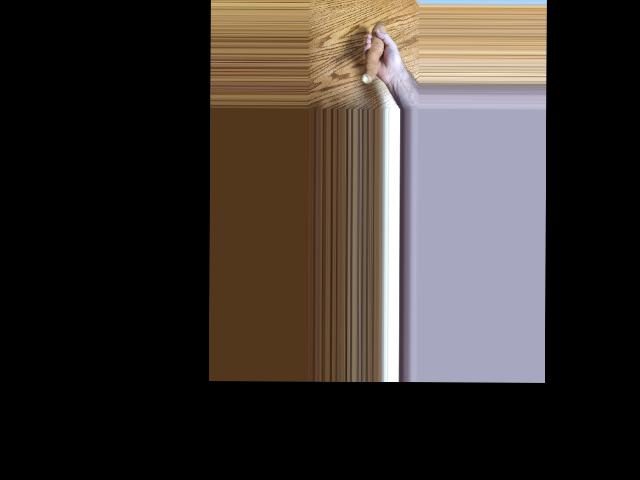sweet_potato: (364, 27, 389, 88)
